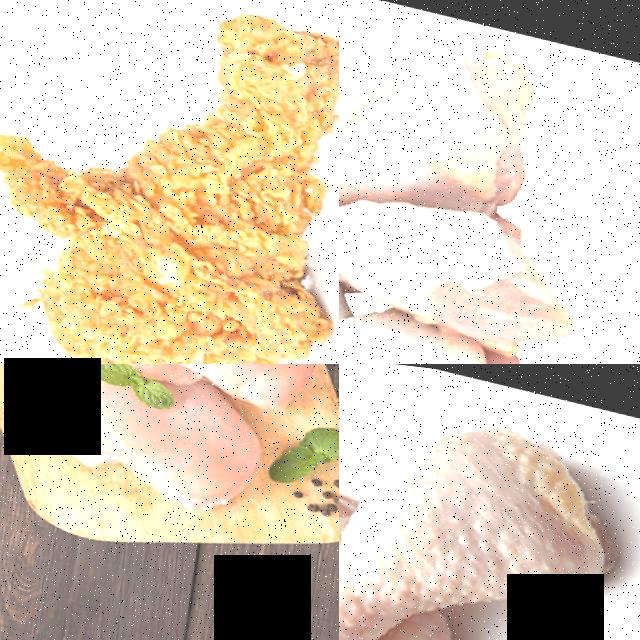chicken breast: (40, 374, 260, 505)
chicken thigh: (12, 0, 339, 364), (339, 367, 608, 640), (339, 172, 592, 350), (339, 2, 539, 213), (339, 301, 555, 364)
